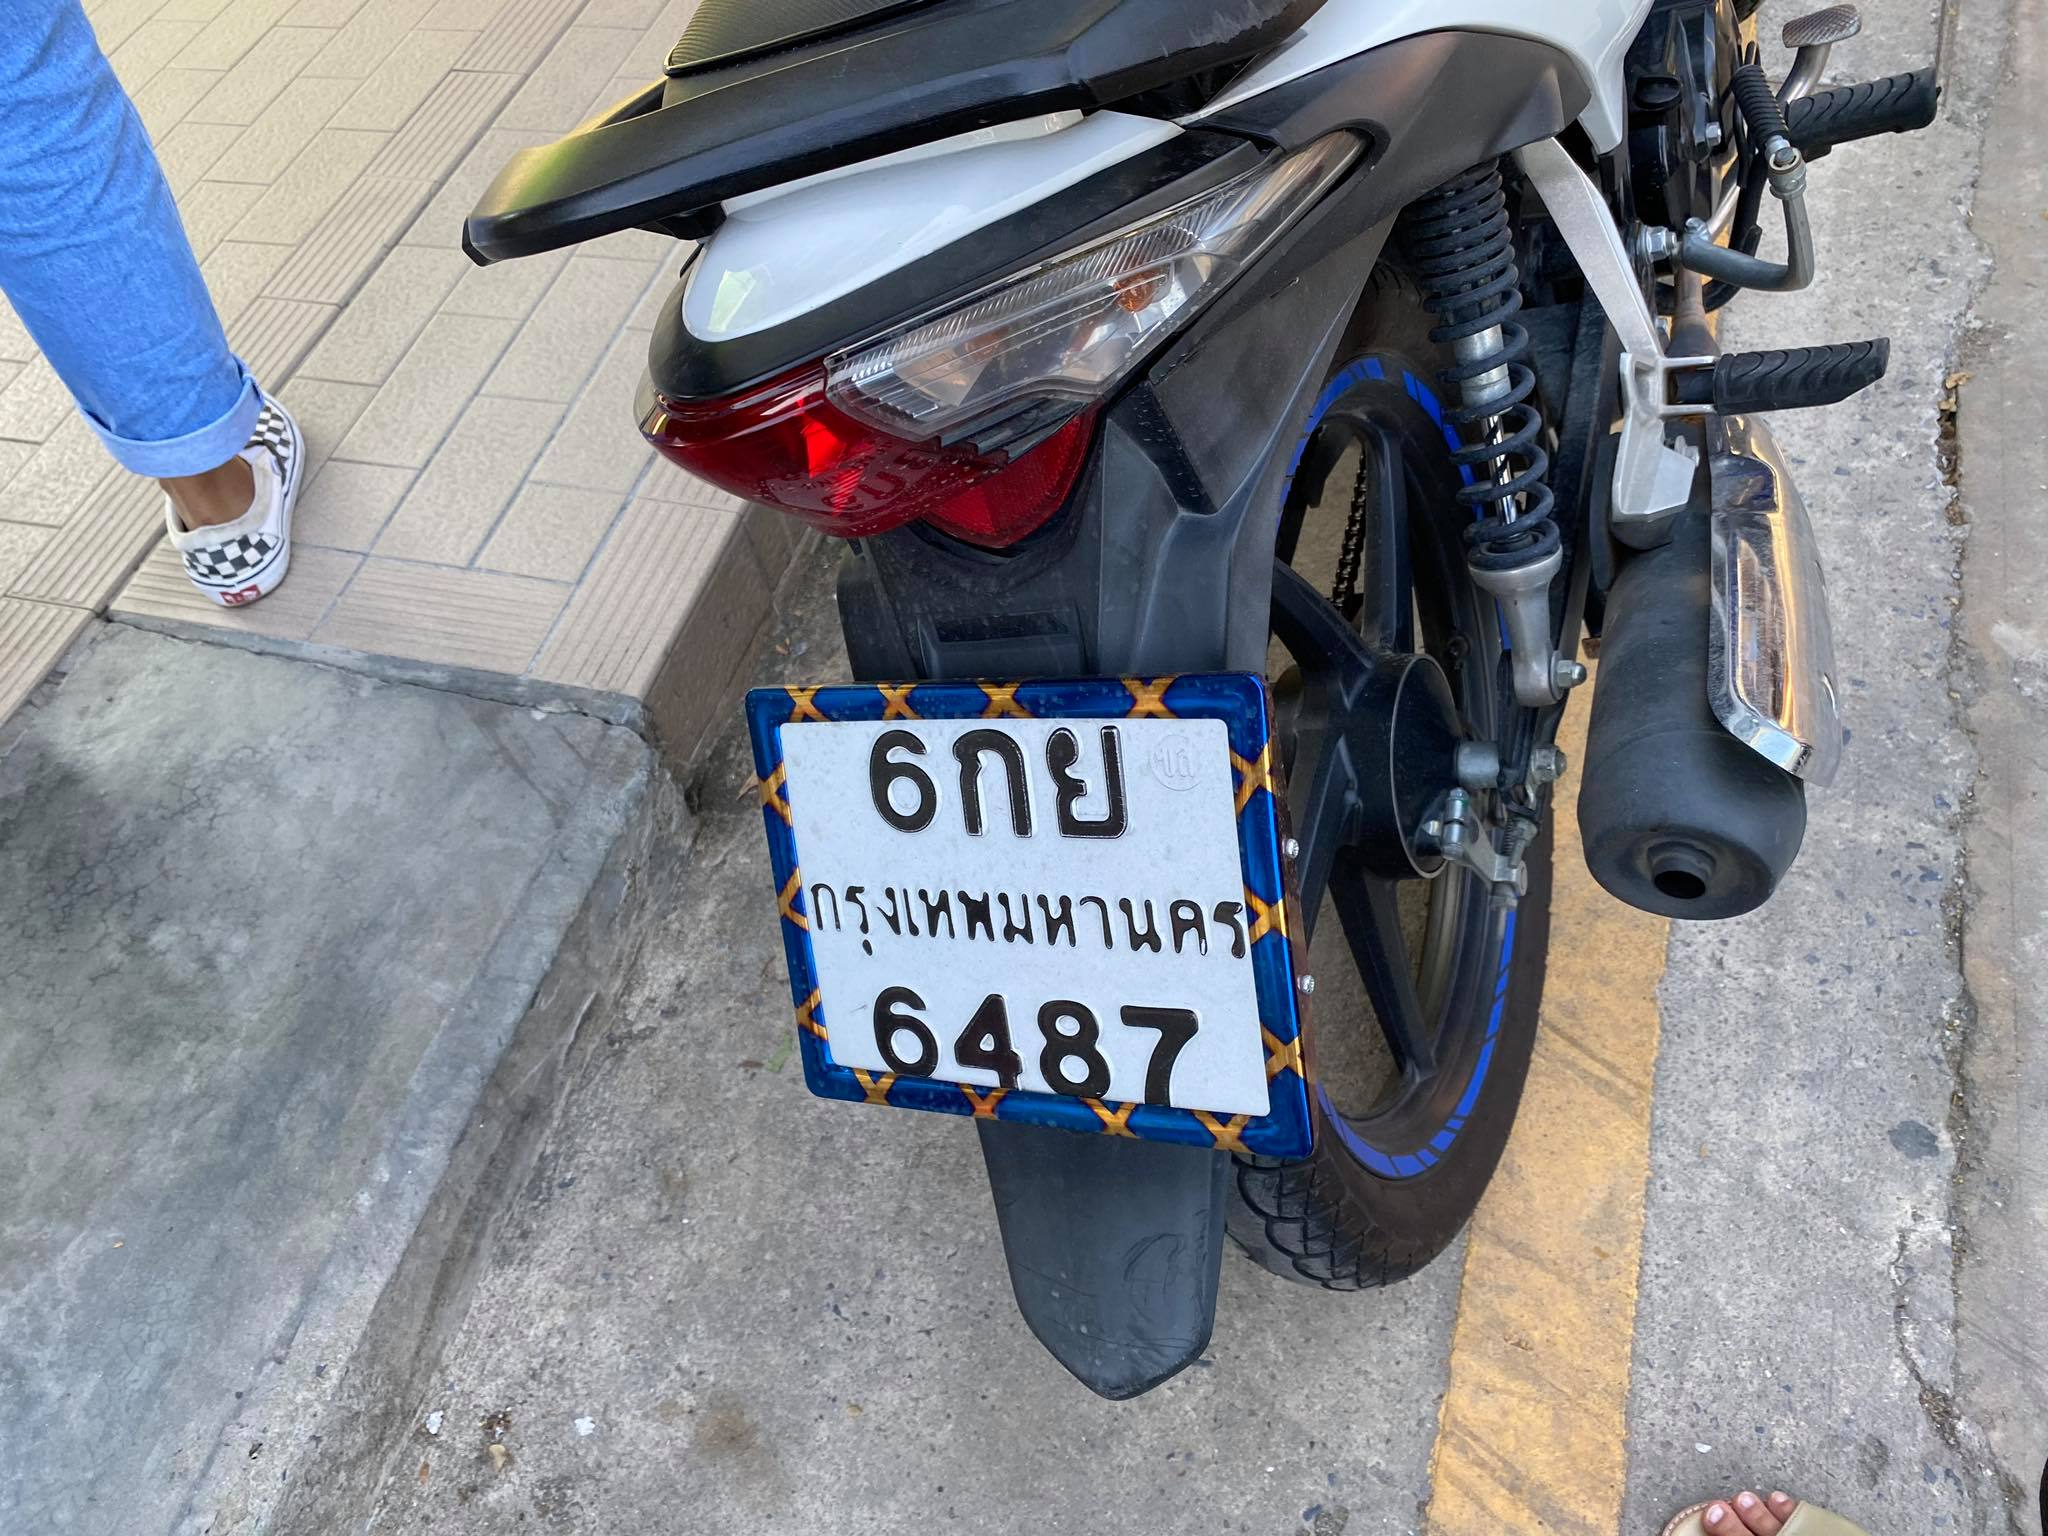line1: (860, 715, 1143, 842)
line2: (810, 870, 1250, 978)
line3: (855, 971, 1211, 1105)
